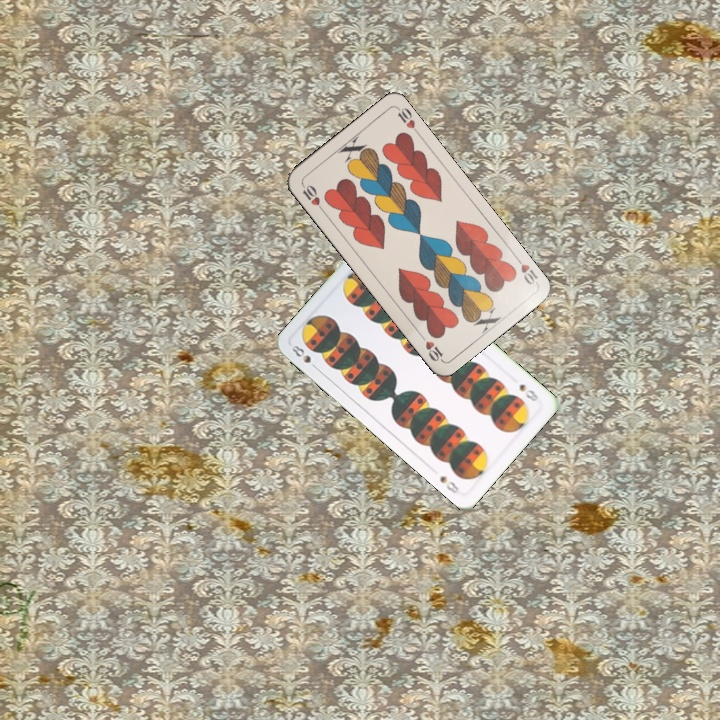H10: (298, 180, 327, 215), (511, 252, 540, 287)
S8: (288, 341, 321, 373), (515, 380, 542, 404)
